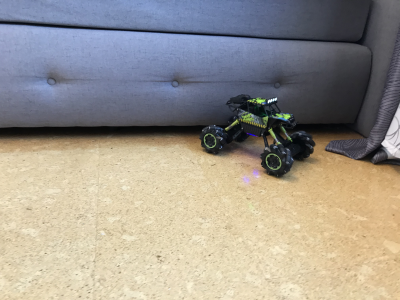remote control car: (197, 89, 318, 180)
